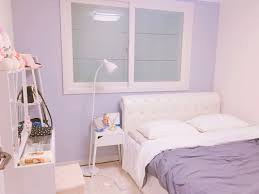Bed: (118, 91, 259, 194)
Lamp: (83, 58, 118, 179)
